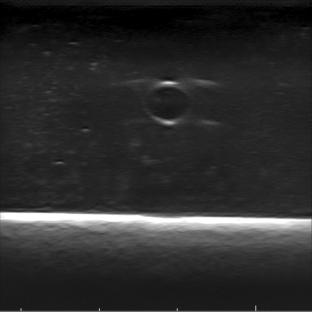vessel: (142, 80, 193, 125)
